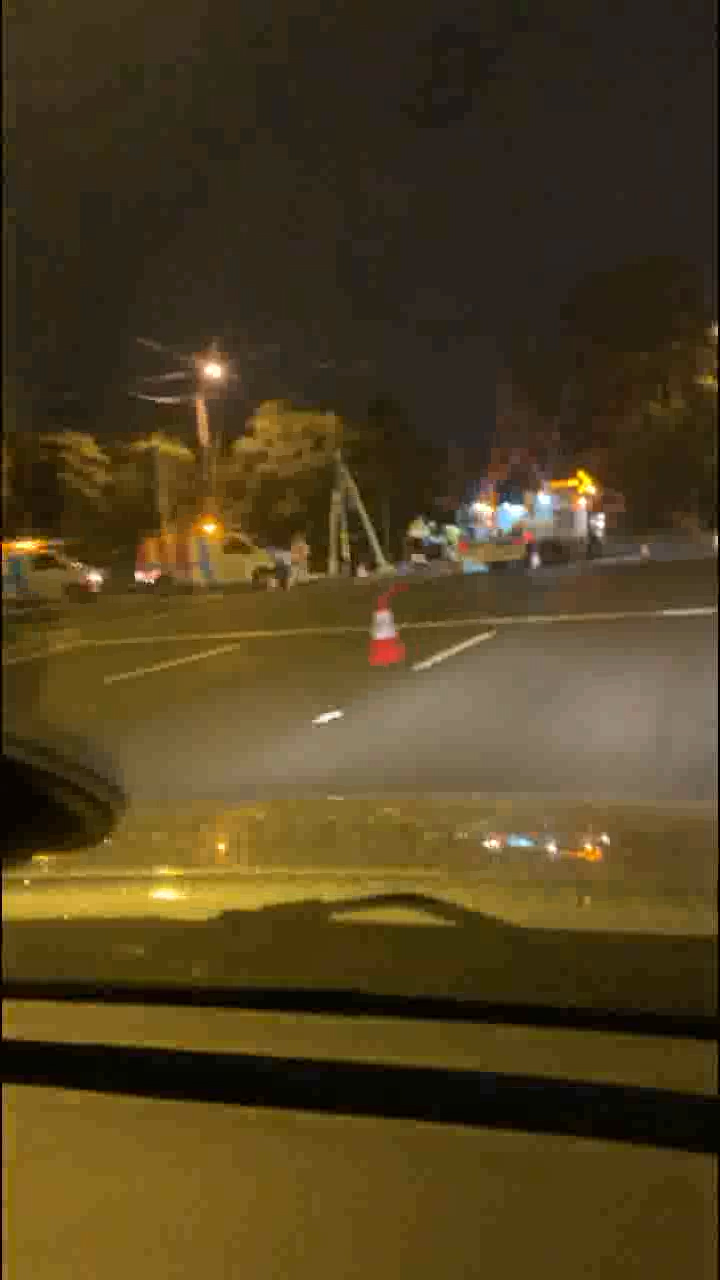person: (283, 532, 314, 584)
road cone: (375, 598, 402, 667)
truck: (422, 490, 618, 569)
van: (135, 527, 279, 584)
